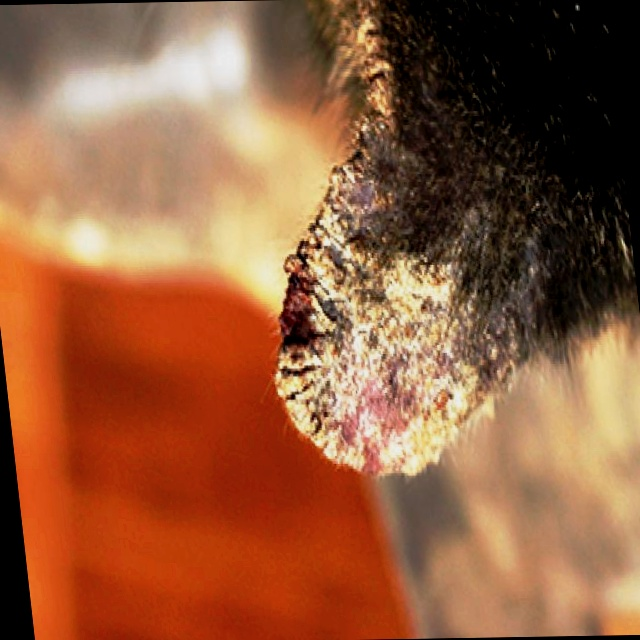ringworm: (272, 216, 506, 460)
